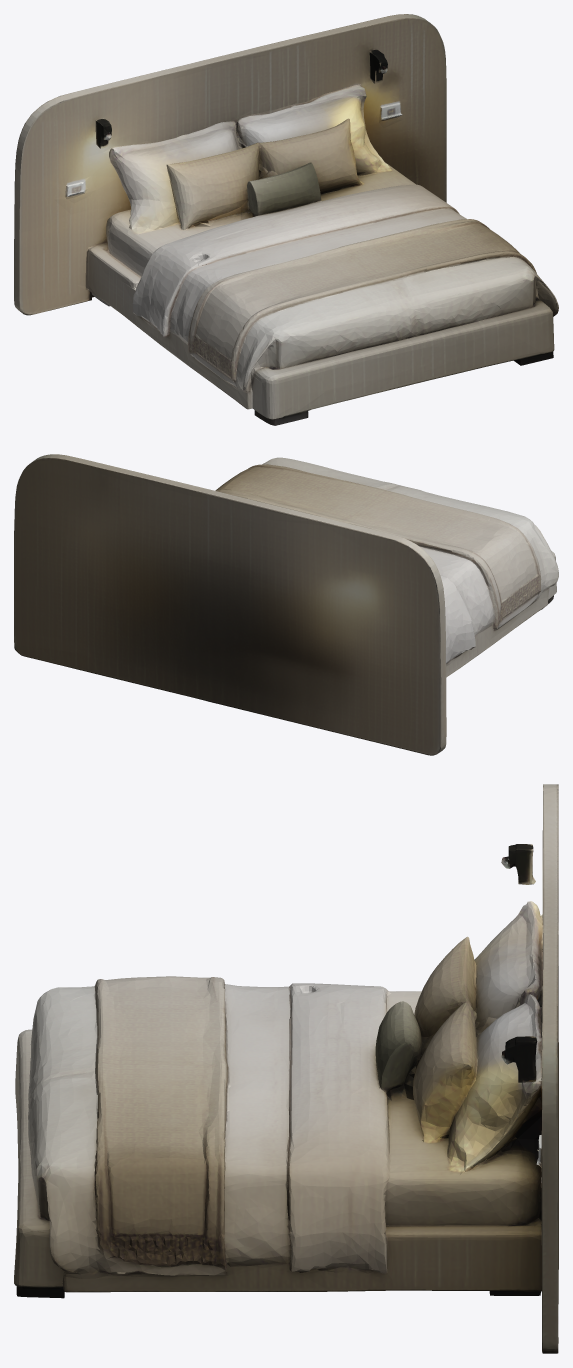
Rendered from BASE DE CAMA SAN JOSE.glb.
The picture shows the model from 3 angles, top to bottom: view 1: azimuth 30°, elevation 25°; view 2: azimuth 150°, elevation 25°; view 3: azimuth 270°, elevation 25°; orthographic projection. The views are drawn at different scales.
Parts seen in each view (by area): view 1: world; view 2: world; view 3: world.
Boxes of the visible parts, <box> form: world: <box>14,14,558,425</box>; world: <box>14,454,558,755</box>; world: <box>14,784,558,1353</box>.
Bounding box in the file's own units: 1 × 0.4641 × 0.7628.
1 material, 1 textured.
